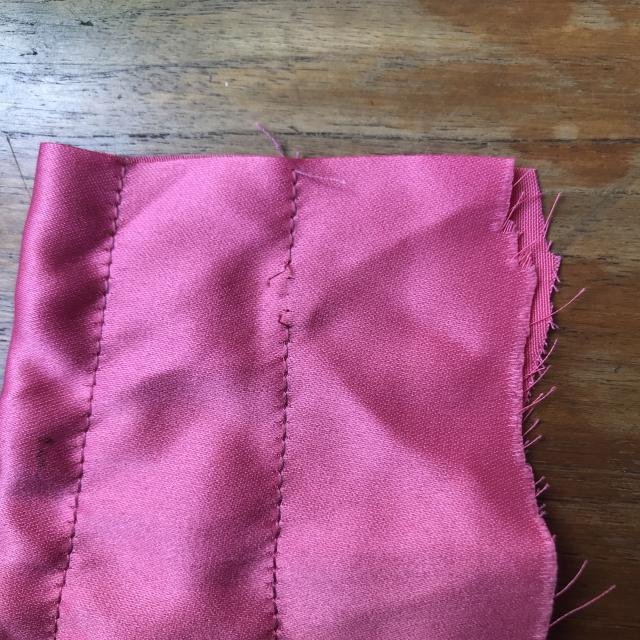broken: (250, 243, 320, 359)
